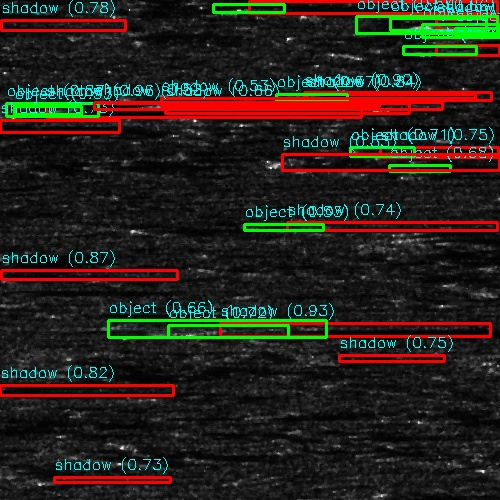rock: (136, 321, 323, 338), (356, 227, 439, 248), (0, 102, 97, 117), (415, 18, 488, 29), (345, 147, 428, 154), (219, 6, 282, 15), (149, 99, 212, 106), (458, 286, 500, 293), (365, 105, 418, 110), (463, 29, 500, 34), (284, 96, 315, 101), (415, 48, 456, 51), (495, 468, 500, 473)
shadow: (230, 321, 500, 338), (40, 102, 341, 117), (251, 6, 500, 15), (0, 269, 172, 282), (398, 227, 500, 248), (181, 99, 393, 106), (0, 21, 106, 32), (0, 123, 124, 132), (0, 388, 201, 393), (300, 96, 500, 101), (387, 147, 498, 154), (0, 12, 69, 21), (392, 105, 448, 110), (436, 48, 500, 51)
